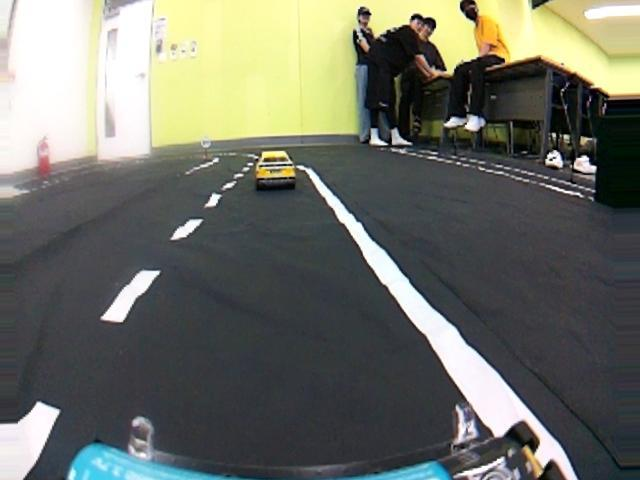car: (253, 150, 299, 185)
straight: (5, 200, 622, 480)
